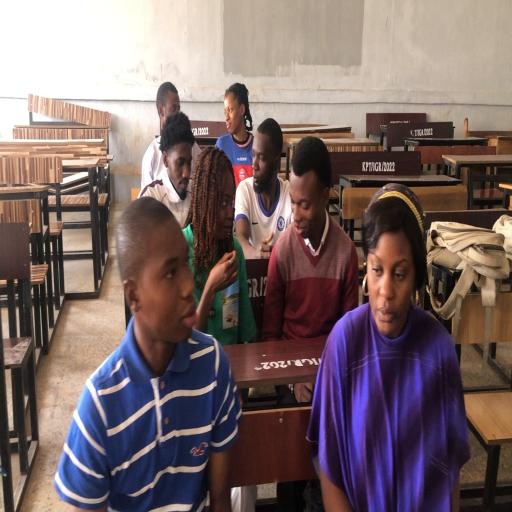Usingmobile: (306, 188, 471, 508), (262, 134, 360, 344), (140, 112, 199, 230)
